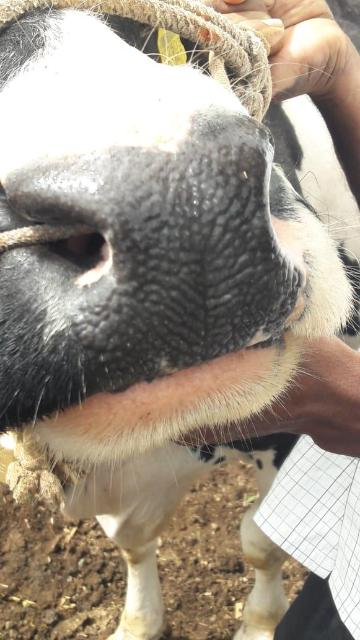Muzzle: (106, 162, 276, 352)
